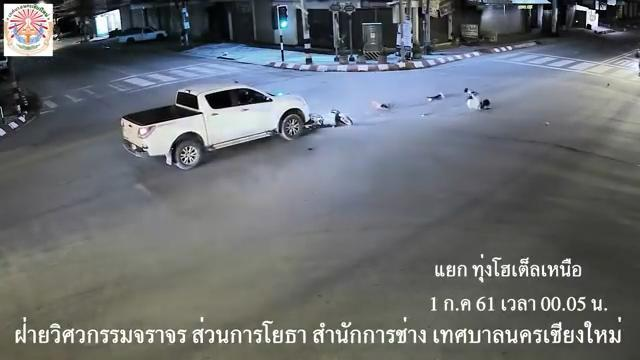accident: (463, 89, 496, 116)
